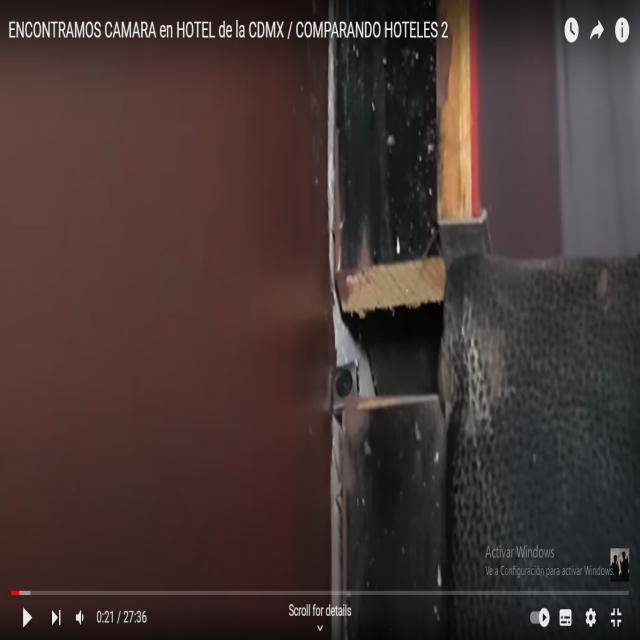hidden camera: (336, 368, 354, 397)
